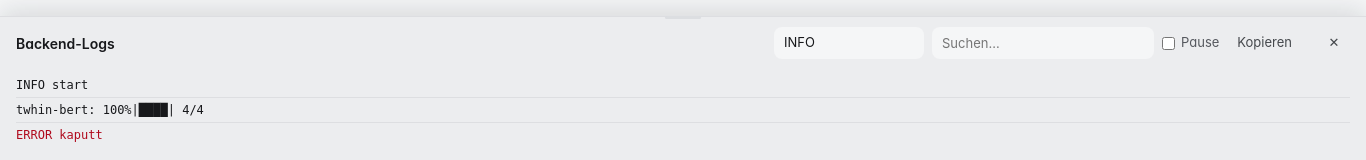
Scenario: LogDrawer als Konsole › Kopieren: Fehler wird sichtbar gemeldet
This screenshot has width=1366, height=160.
Click the button with class "copy-btn".
click(1265, 43)  # box x1=1227 y1=27 x2=1302 y2=59
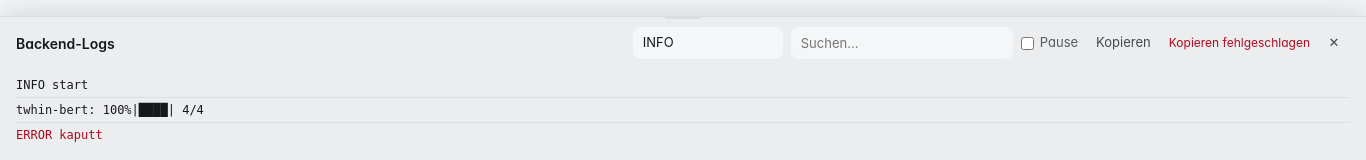
Check: the message "Kopieren fehlgeschlagen" is shown, box x1=1169 y1=34 x2=1310 y2=52
